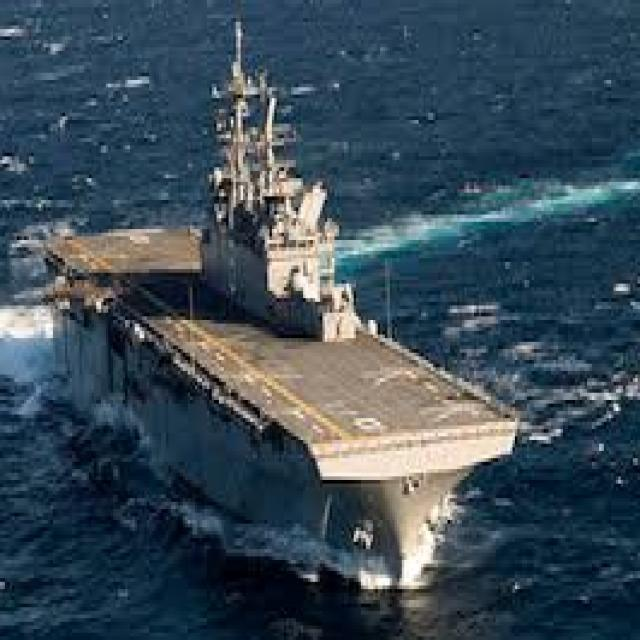navalvessels: (39, 76, 525, 586)
